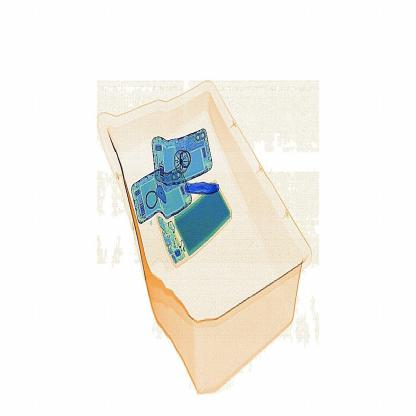knife: (178, 172, 224, 199)
